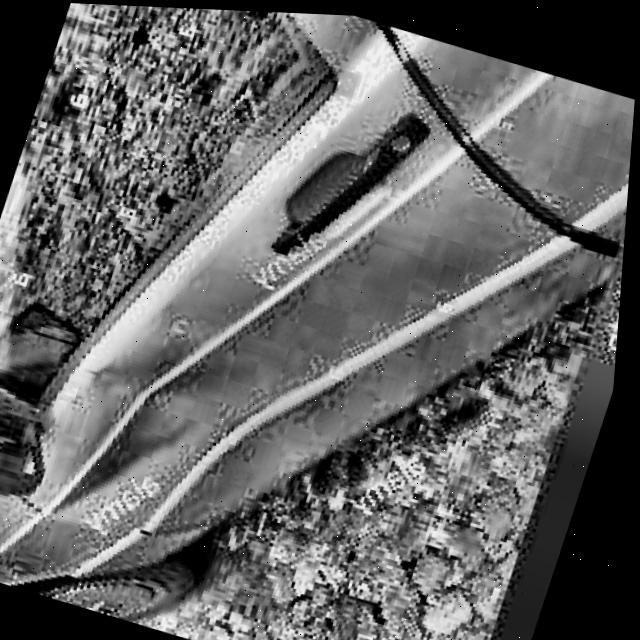door_dent: (53, 311, 229, 526)
